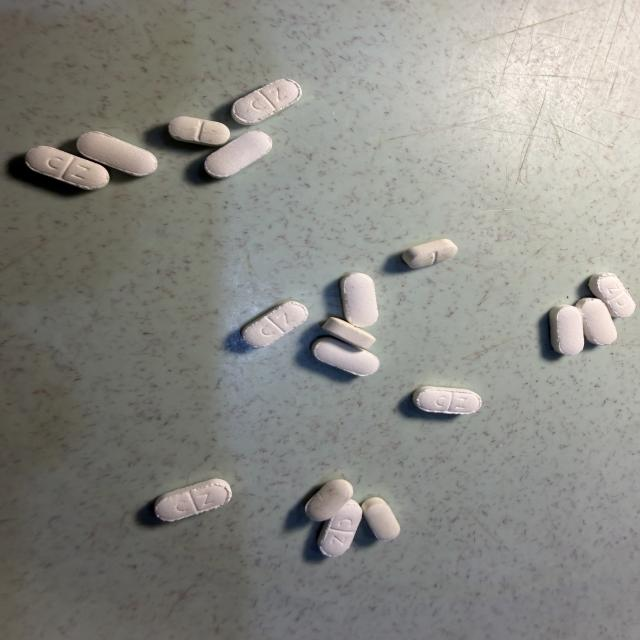pill: (25, 146, 109, 190), (77, 132, 157, 176), (155, 479, 231, 521), (232, 79, 301, 125), (205, 131, 272, 178), (242, 301, 308, 347), (312, 337, 379, 376), (319, 500, 362, 556), (340, 273, 378, 327), (589, 273, 635, 317), (305, 479, 353, 521), (576, 298, 617, 345), (413, 386, 481, 413), (169, 116, 230, 146), (323, 317, 375, 349), (550, 305, 583, 354), (362, 498, 400, 540), (402, 239, 457, 268)
